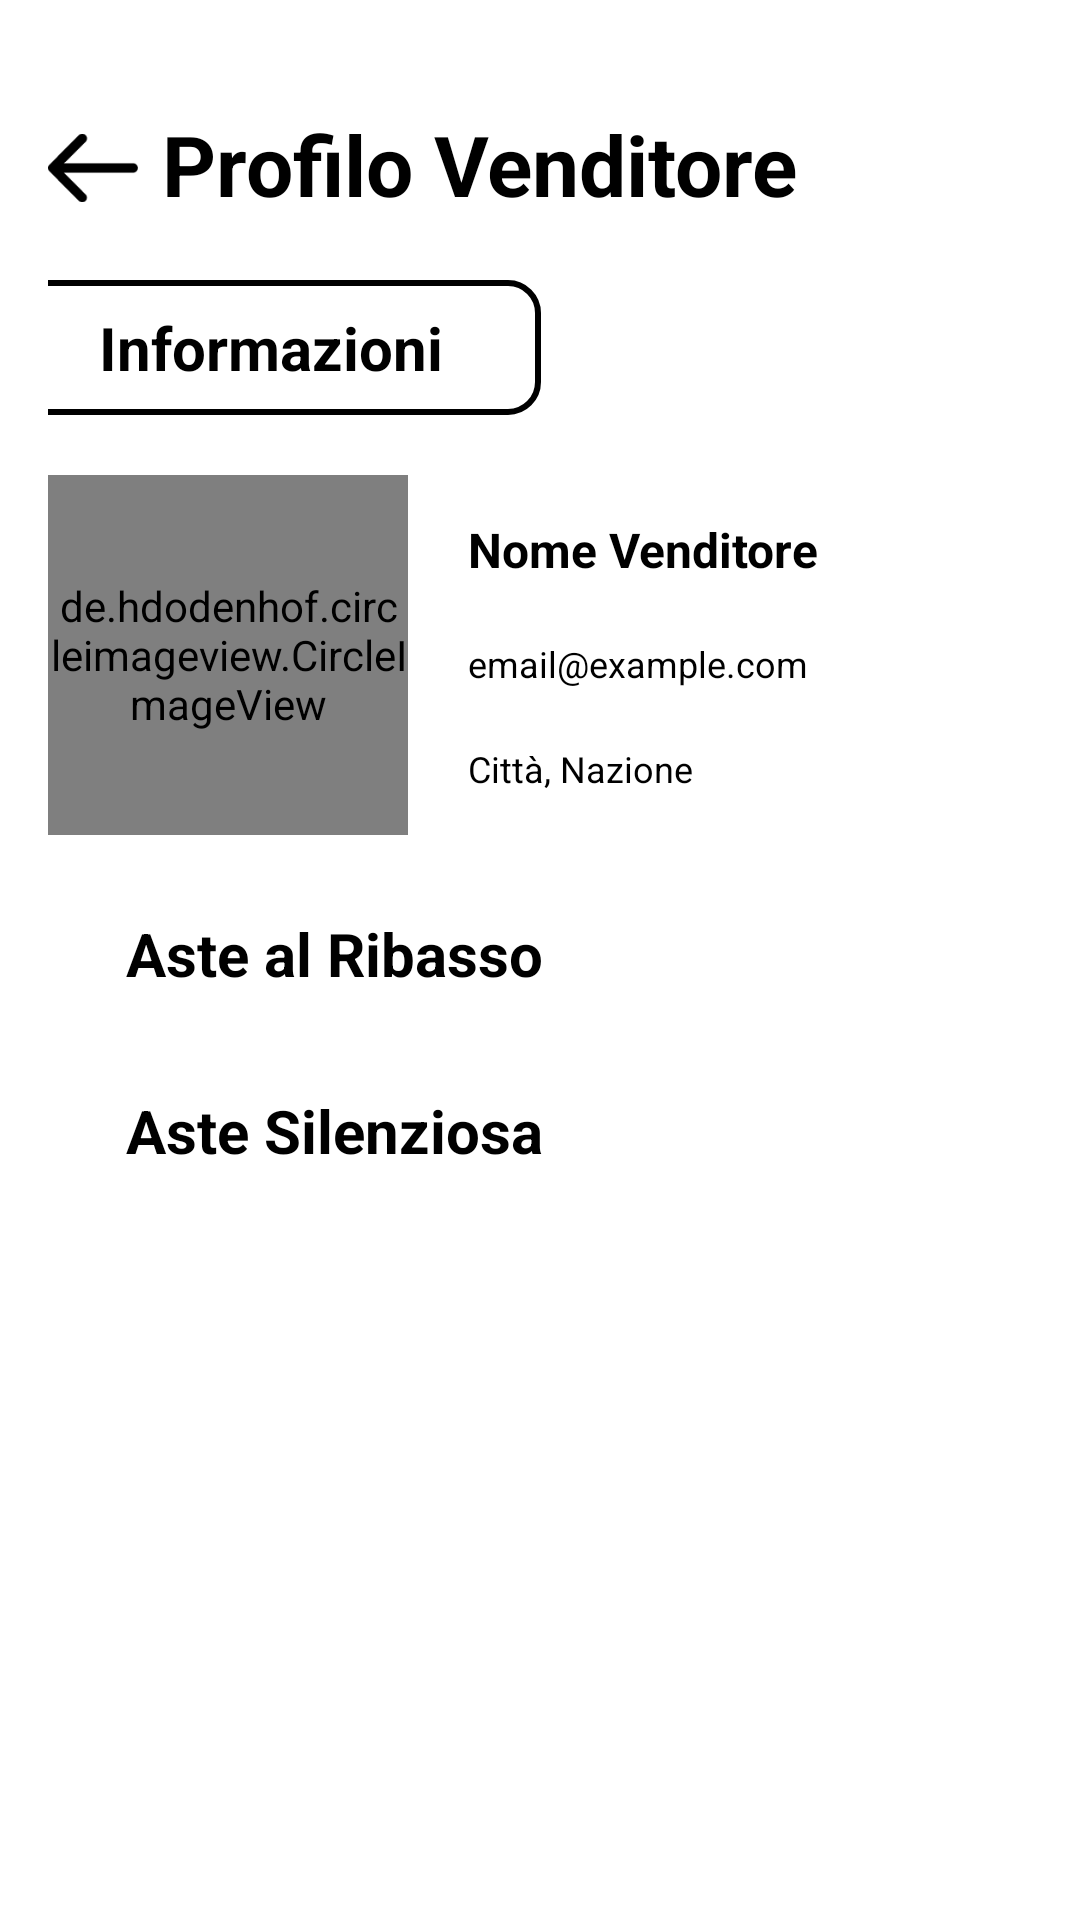

Where icons sit on this 1080 × 1920 app screen, as bbox=[x1, y1, x2, y2]:
freccia: bbox=[48, 134, 138, 202]
